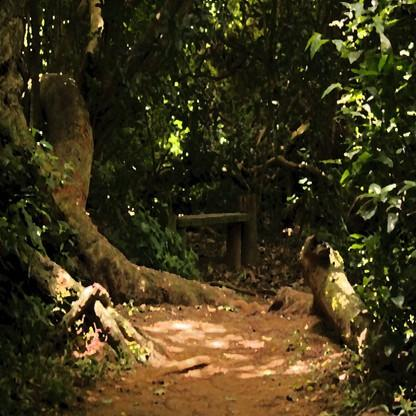obstacle: (183, 192, 240, 273)
